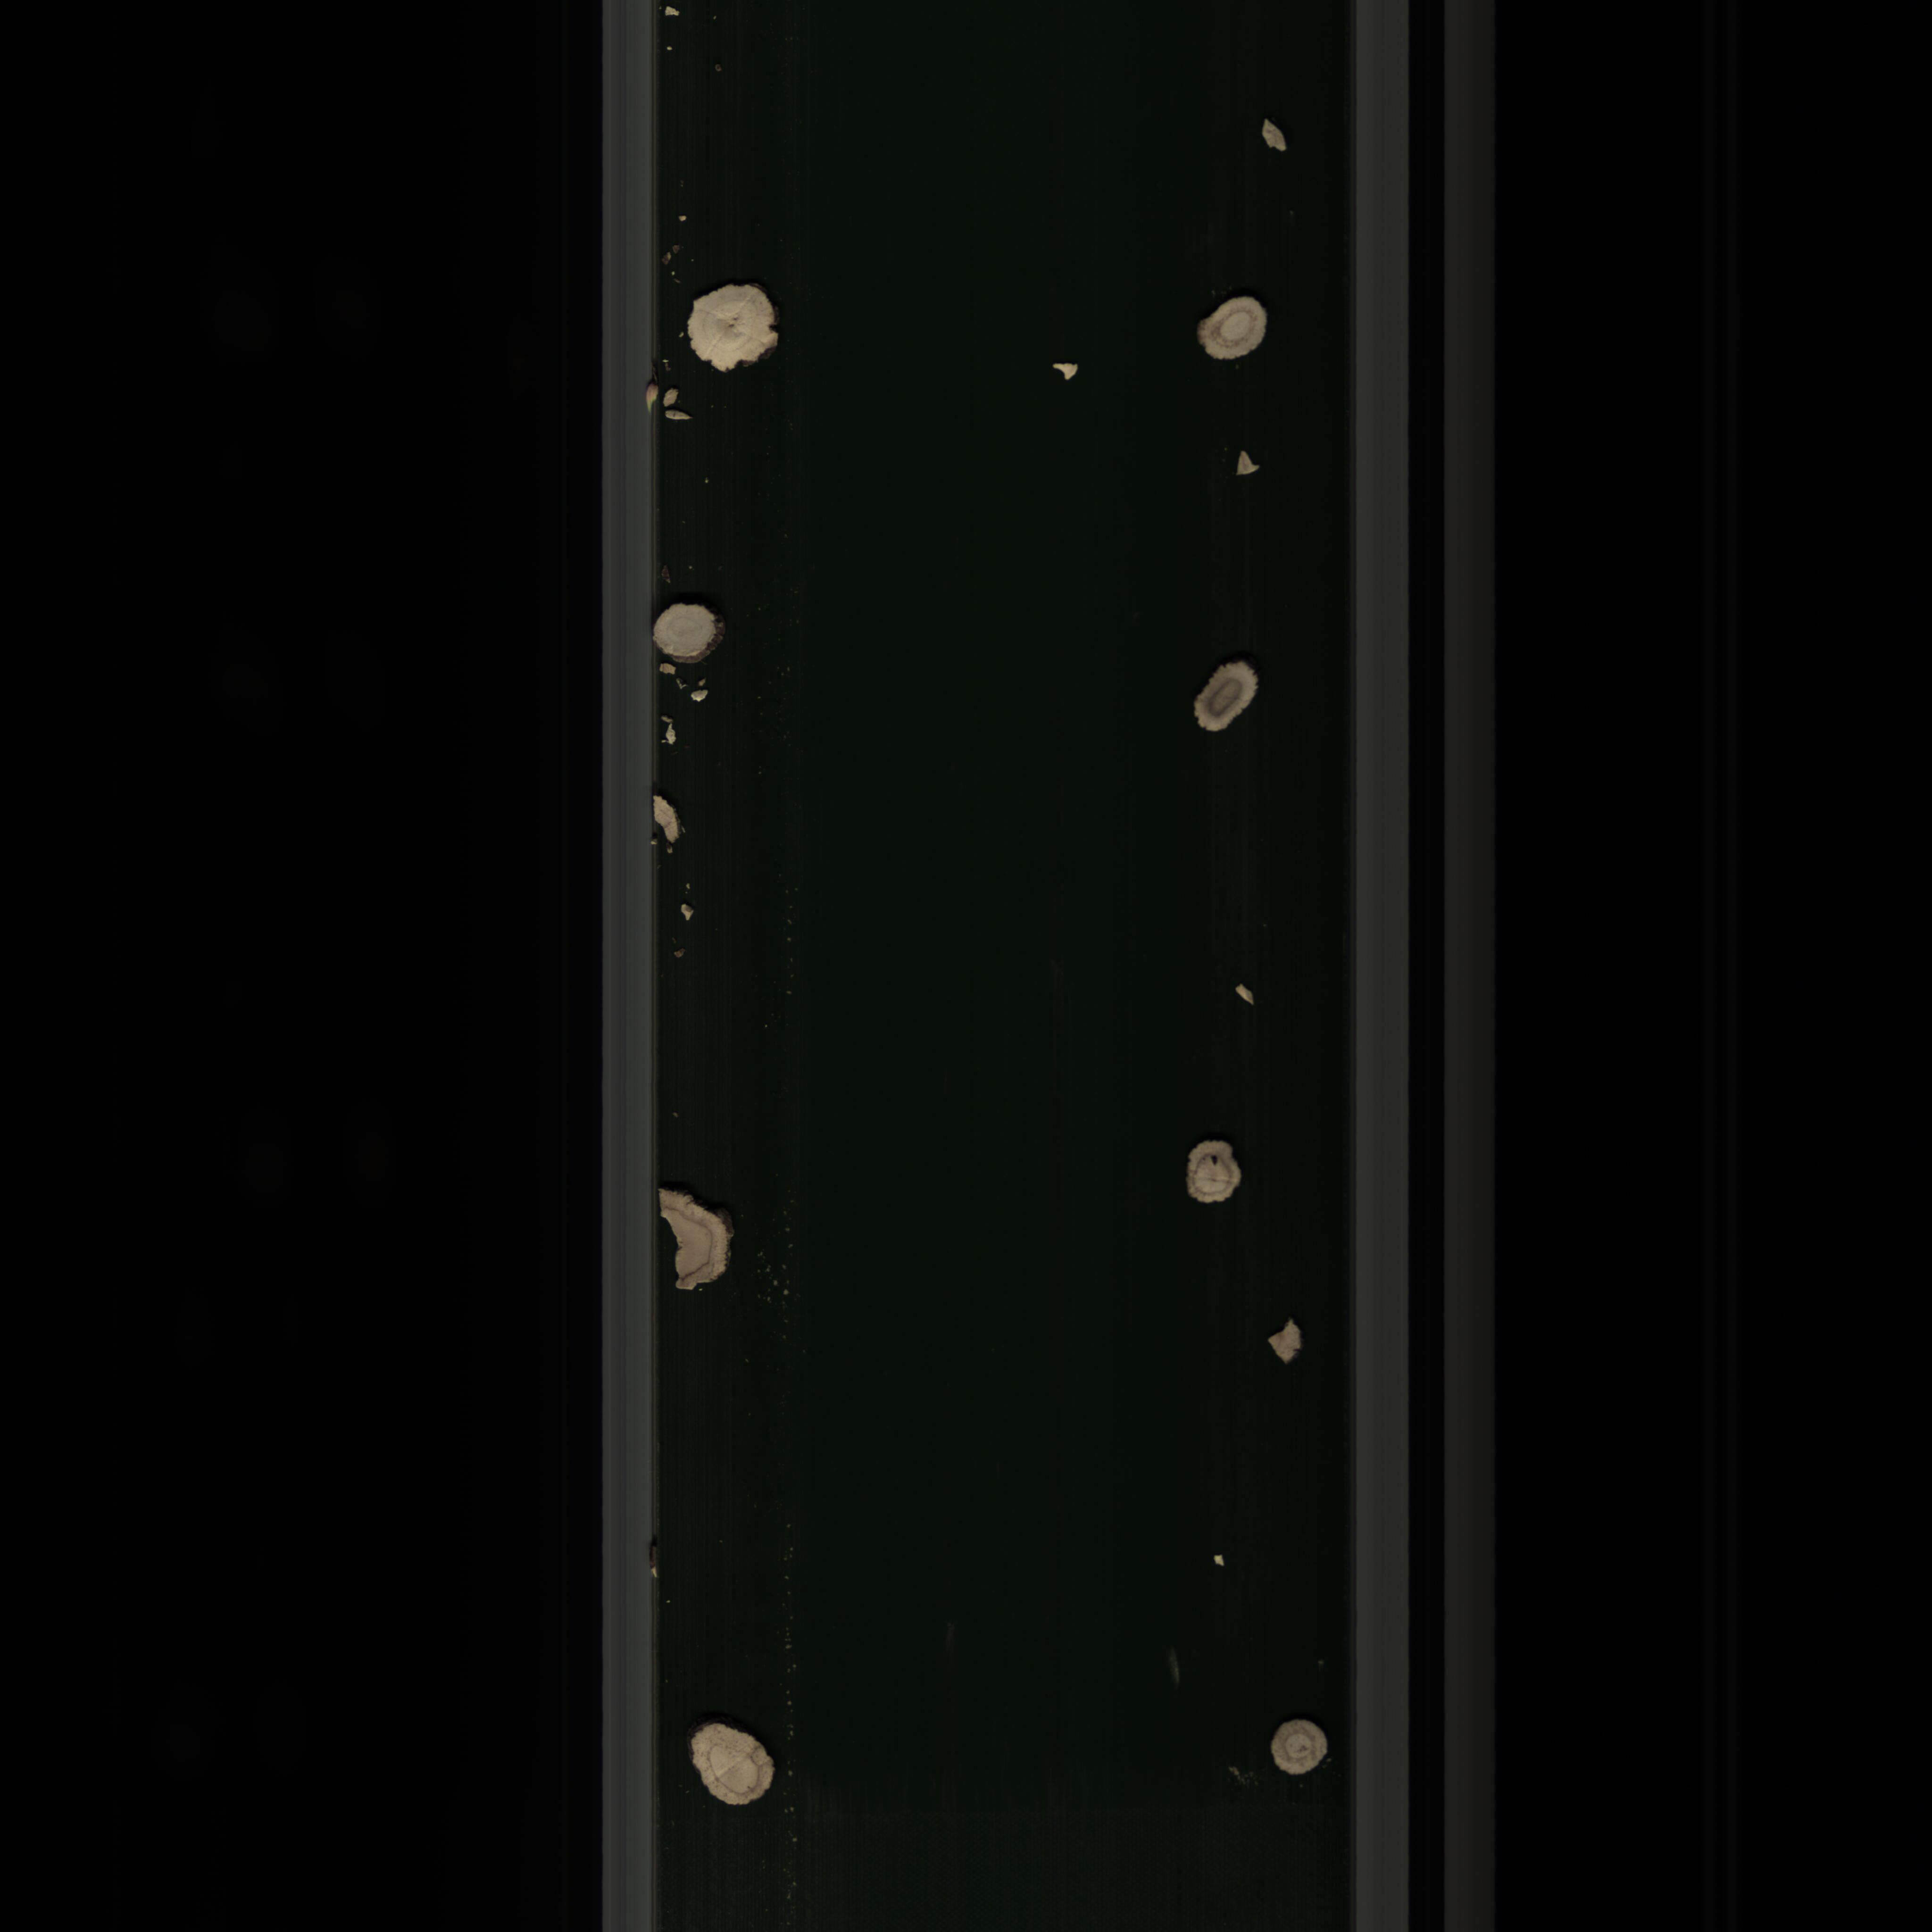debris: (656, 1178, 747, 1304), (1261, 1311, 1311, 1373)
distortion: (679, 278, 791, 377)
hole: (1177, 1138, 1244, 1210)
moldy: (1187, 651, 1281, 743)
